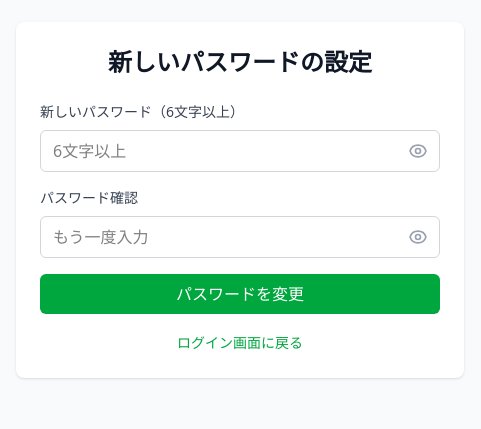
Scenario: ResetPassword › パスワードが一致しない場合、バリデーションエラーが表示されること
Type "password123" into the password field labelled "新しいパスワード（6文字以上）".
click(240, 151); type("password123")  # box [40, 130, 440, 172]
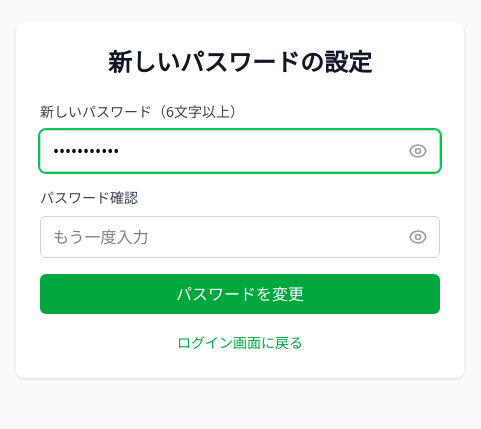
Type "password456" into the password field labelled "パスワード確認".
click(240, 237); type("password456")  # box [40, 216, 440, 258]
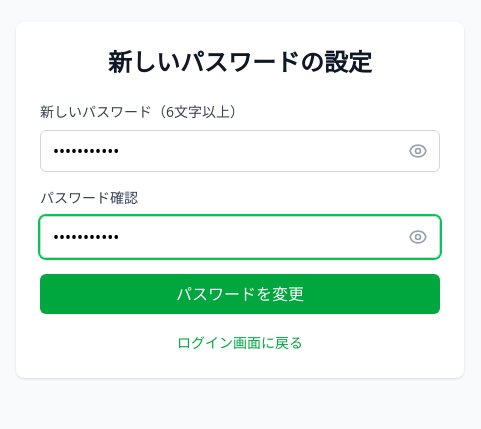
Click the button "パスワードを変更".
click(240, 294)  # box [40, 274, 440, 314]
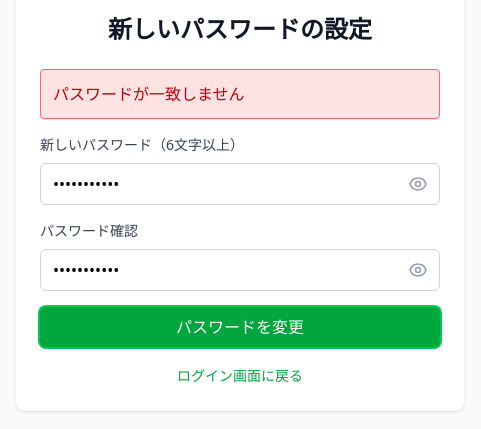
Check: the text "パスワードが一致しません" is shown, box [40, 69, 440, 119]
